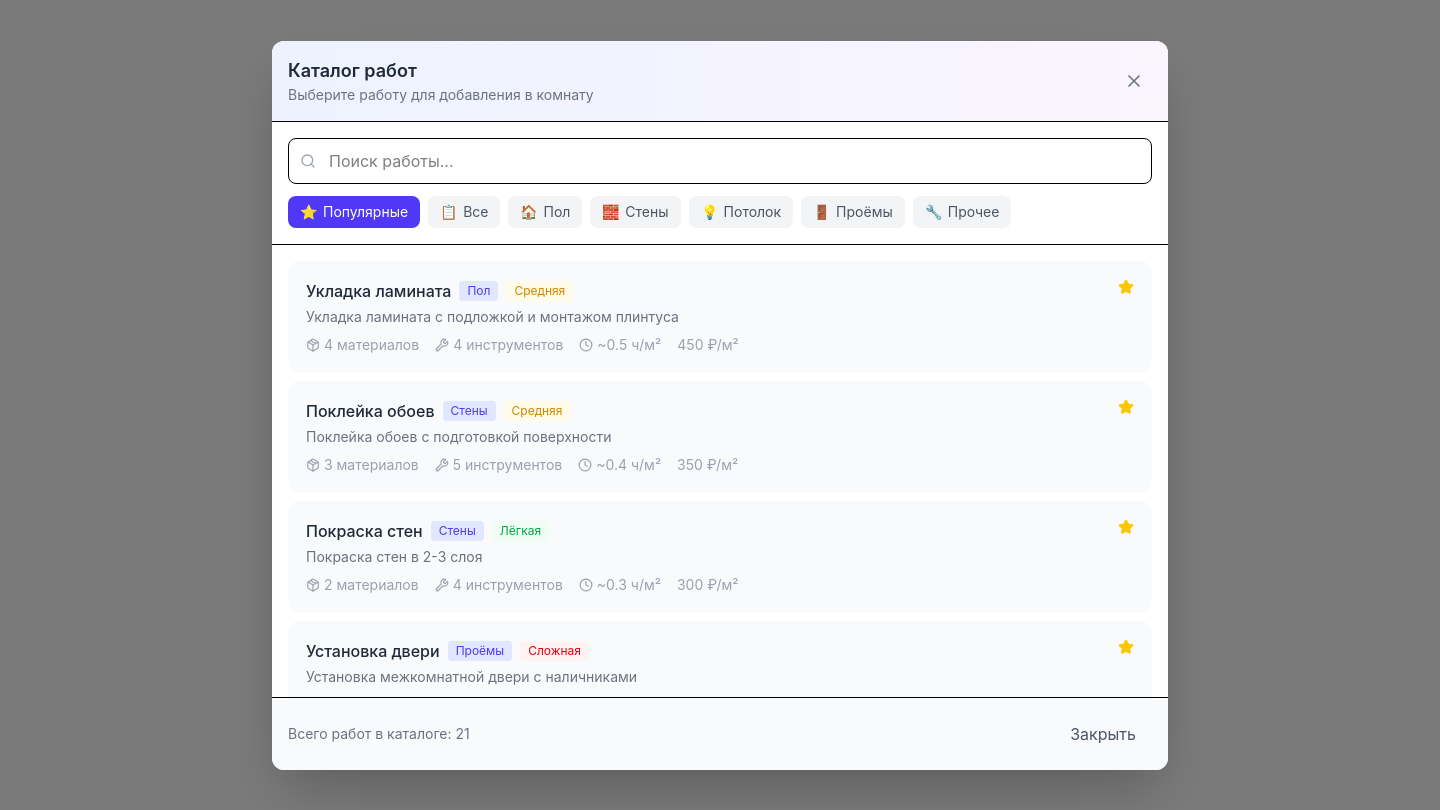
WorkCatalogPicker Component › should show work details when work is selected
Note: Search for laminate to filter works
Type "ламинат" into the field with placeholder "Поиск работы..." at (720, 160), box [288,138,1152,184]
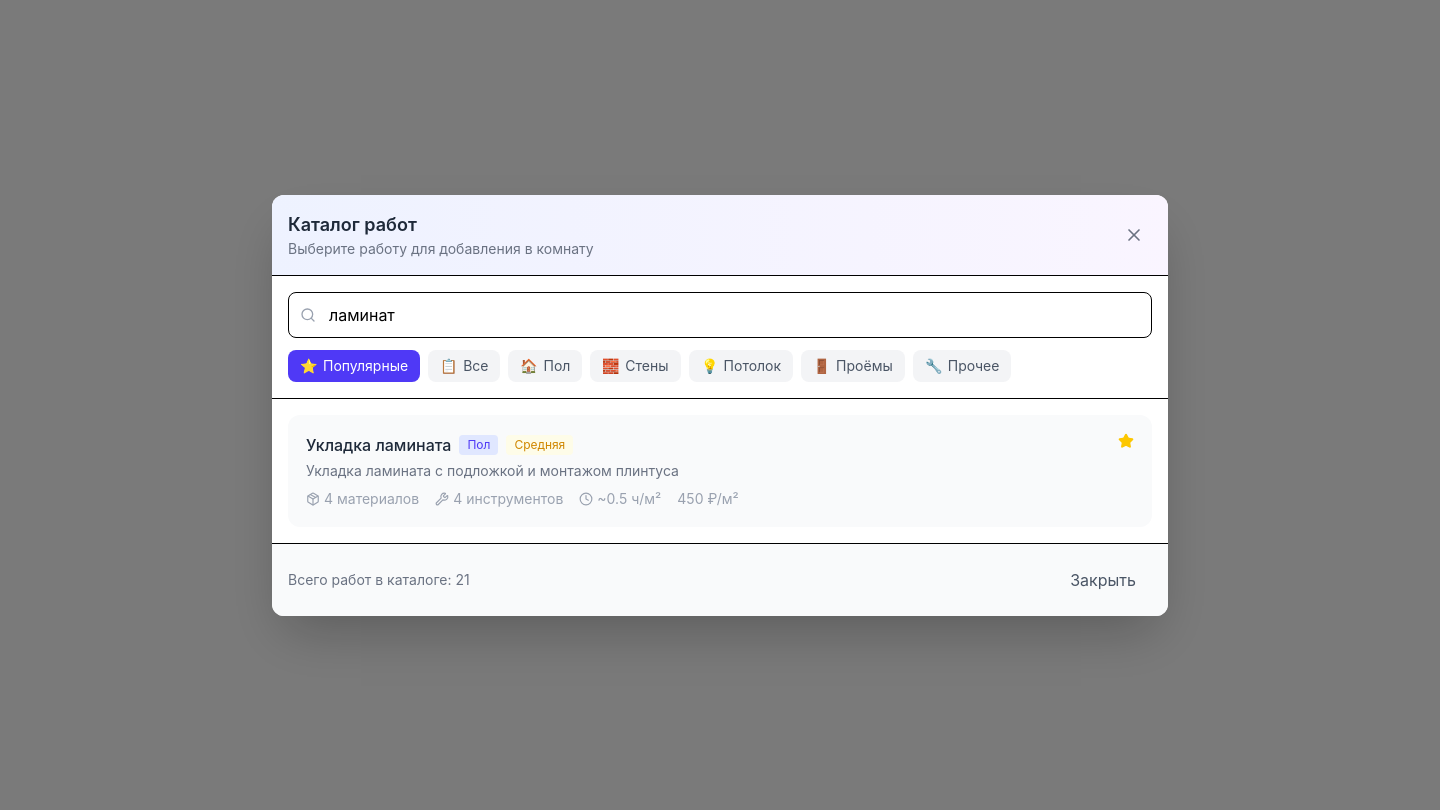
Note: Click on laminate work card
Click the text "Укладка ламината" at (379, 444), box [306,432,451,456]
(page scrolled)
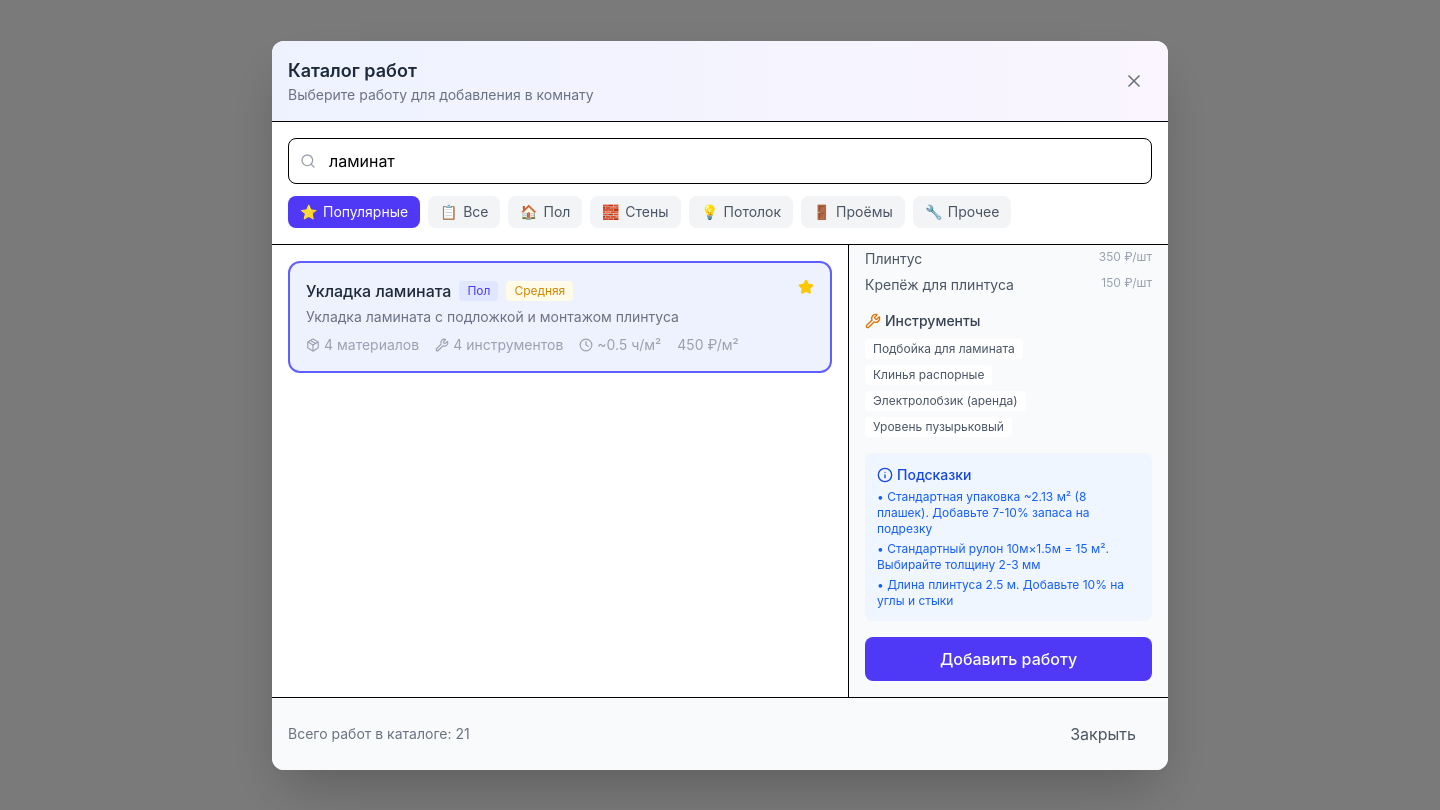
Now the button "Добавить работу" is shown, box [865,636,1152,680]
